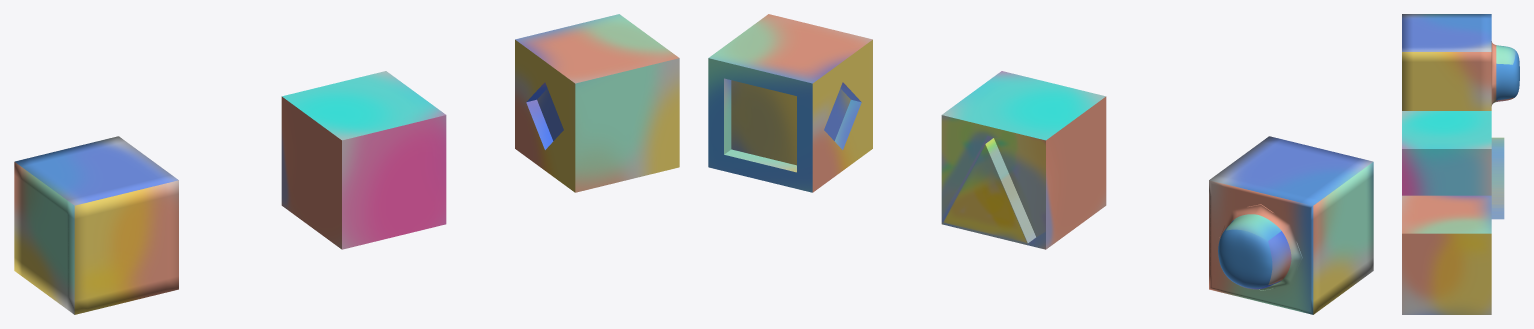
Rendered from Cubes.fbx.
The picture shows the model from 3 angles, left to right: view 1: azimuth 30°, elevation 25°; view 2: azimuth 150°, elevation 25°; view 3: azimuth 270°, elevation 25°; orthographic projection. The views are drawn at different scales.
Visible parts, largest first — view 1: Triangle, Cube, Circle; view 2: Triangle, Cube, Circle; view 3: Cube, Circle, Triangle.
Part boxes in pixels (<box>): Triangle: <box>281,71,446,249</box>; Cube: <box>515,14,679,192</box>; Circle: <box>14,136,178,314</box>; Triangle: <box>941,71,1106,249</box>; Cube: <box>708,14,872,192</box>; Circle: <box>1209,136,1373,314</box>; Cube: <box>1402,195,1491,314</box>; Circle: <box>1402,14,1519,110</box>; Triangle: <box>1402,111,1504,219</box>.
Size of the model in its own units: 1159 by 200 by 263.
Materials: 3 (3 with a texture image).
